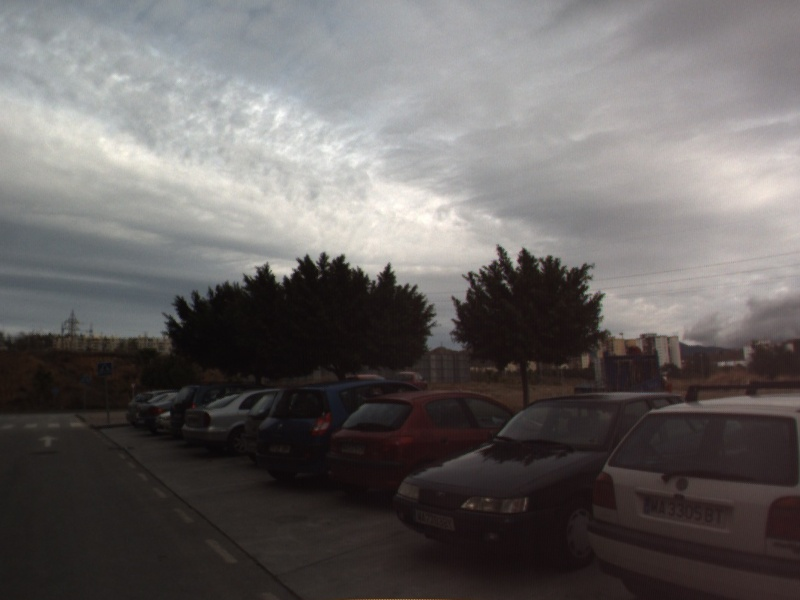STRAIGHT: (37, 433, 61, 449)
